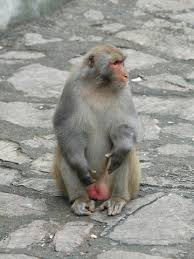monkey: (40, 39, 162, 214)
